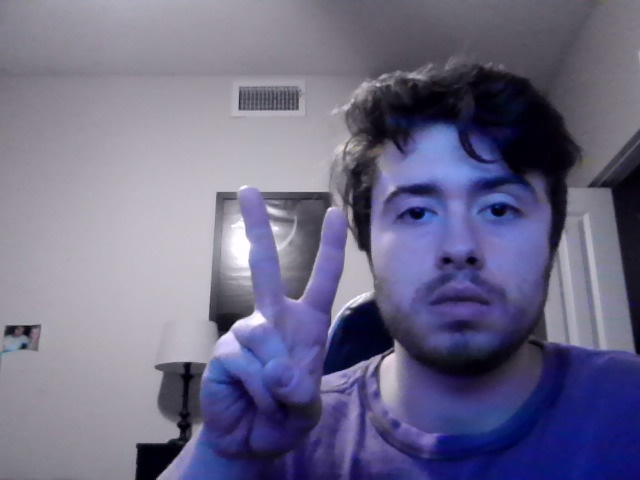v: (198, 185, 348, 478)
